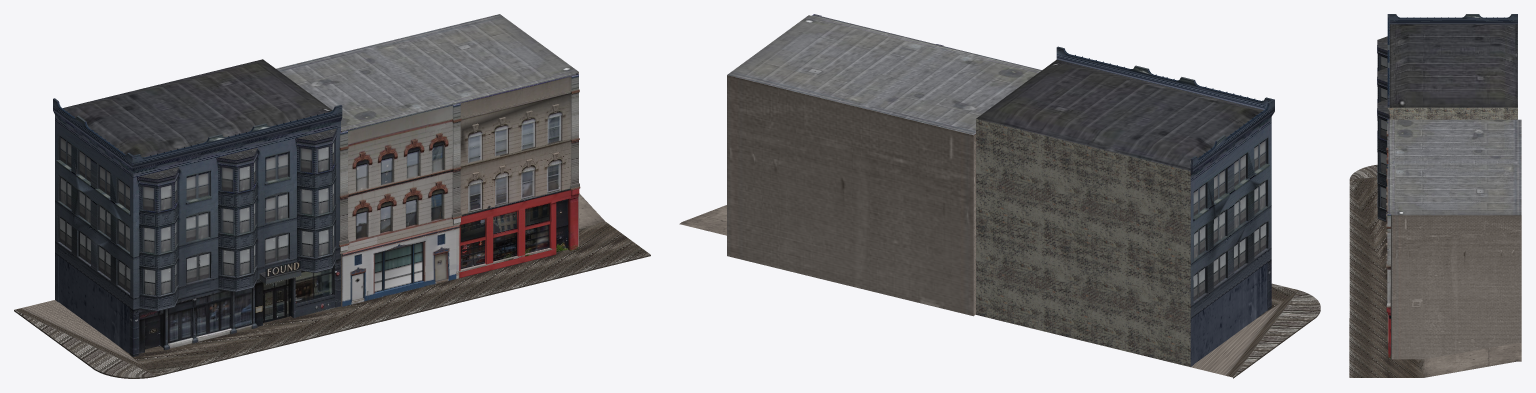
Rendered from building3_p6.fbx.
3 views of the same model, side by side, from view 1: azimuth 30°, elevation 25°; view 2: azimuth 150°, elevation 25°; view 3: azimuth 270°, elevation 25° (orthographic). The views are drawn at different scales.
Visible parts, largest first — view 1: Bricks; view 2: Bricks; view 3: Bricks.
Part boxes in pixels (x1,y1,x2,y2): Bricks: (14,14,650,378); Bricks: (679,14,1320,378); Bricks: (1349,14,1521,377).
Size of the model in its own units: 19789 by 7186 by 6726.
